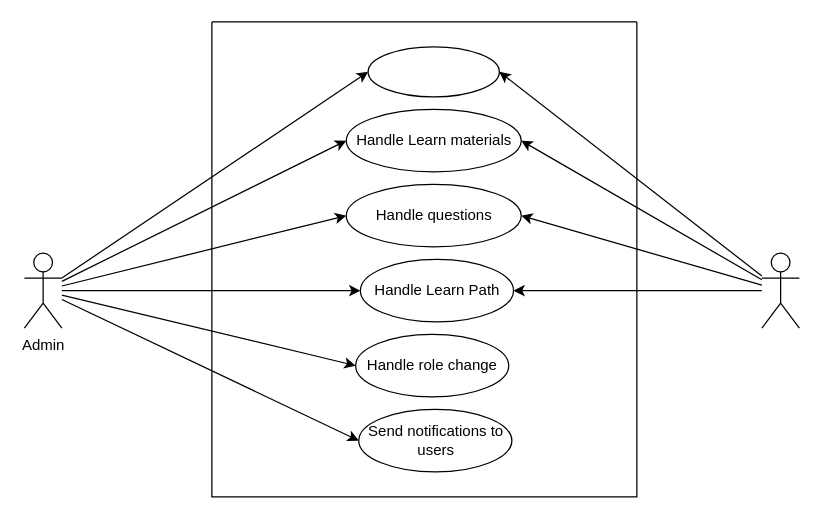
This 829x519 diagram has some shape labels left out. Each missing label, with the centre of its shape:
Log In / Sign Up: point 433,71
Teacher: point 780,290
